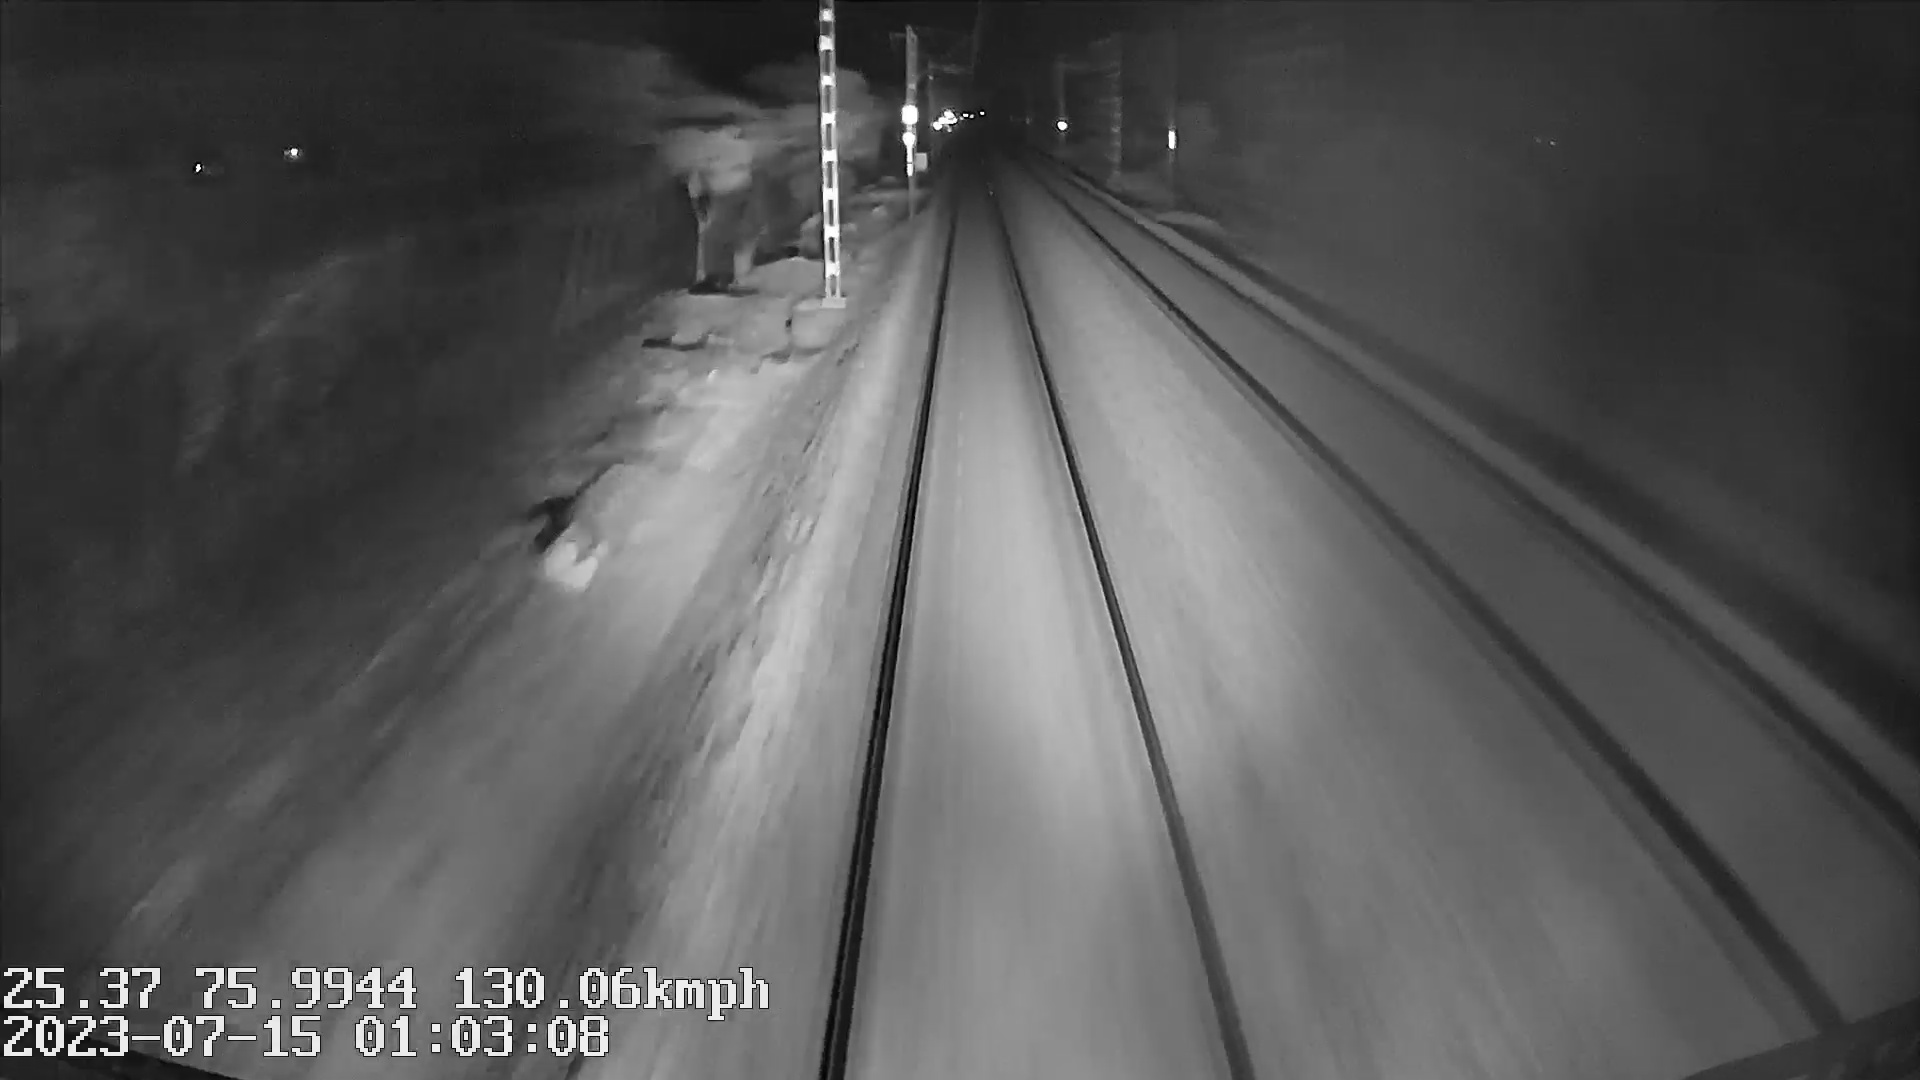track1: (837, 186, 1231, 1045)
track2: (1078, 201, 1909, 983)
